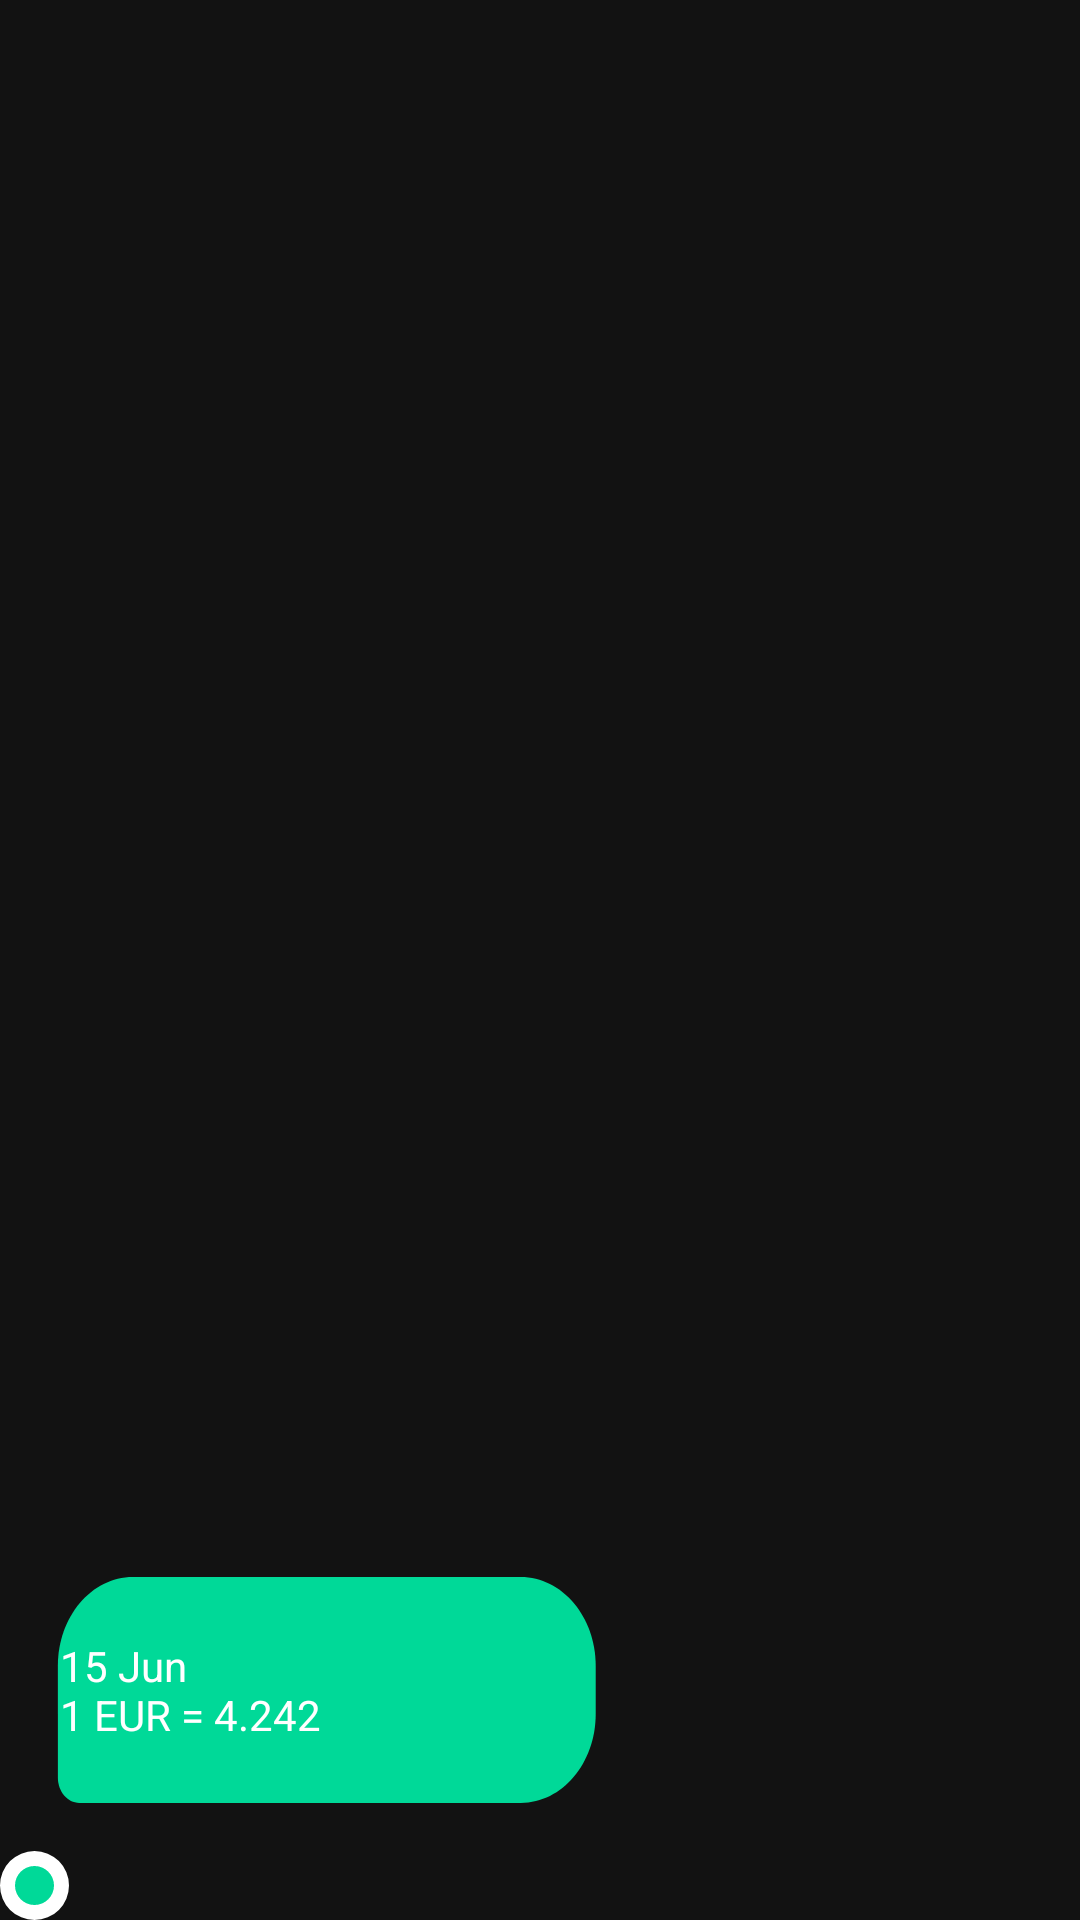

Icon bounding boxes for this 1080x1920 phone screenshot, format (x1, y1, x2, y2):
graph dot: (0, 1851, 69, 1920)
